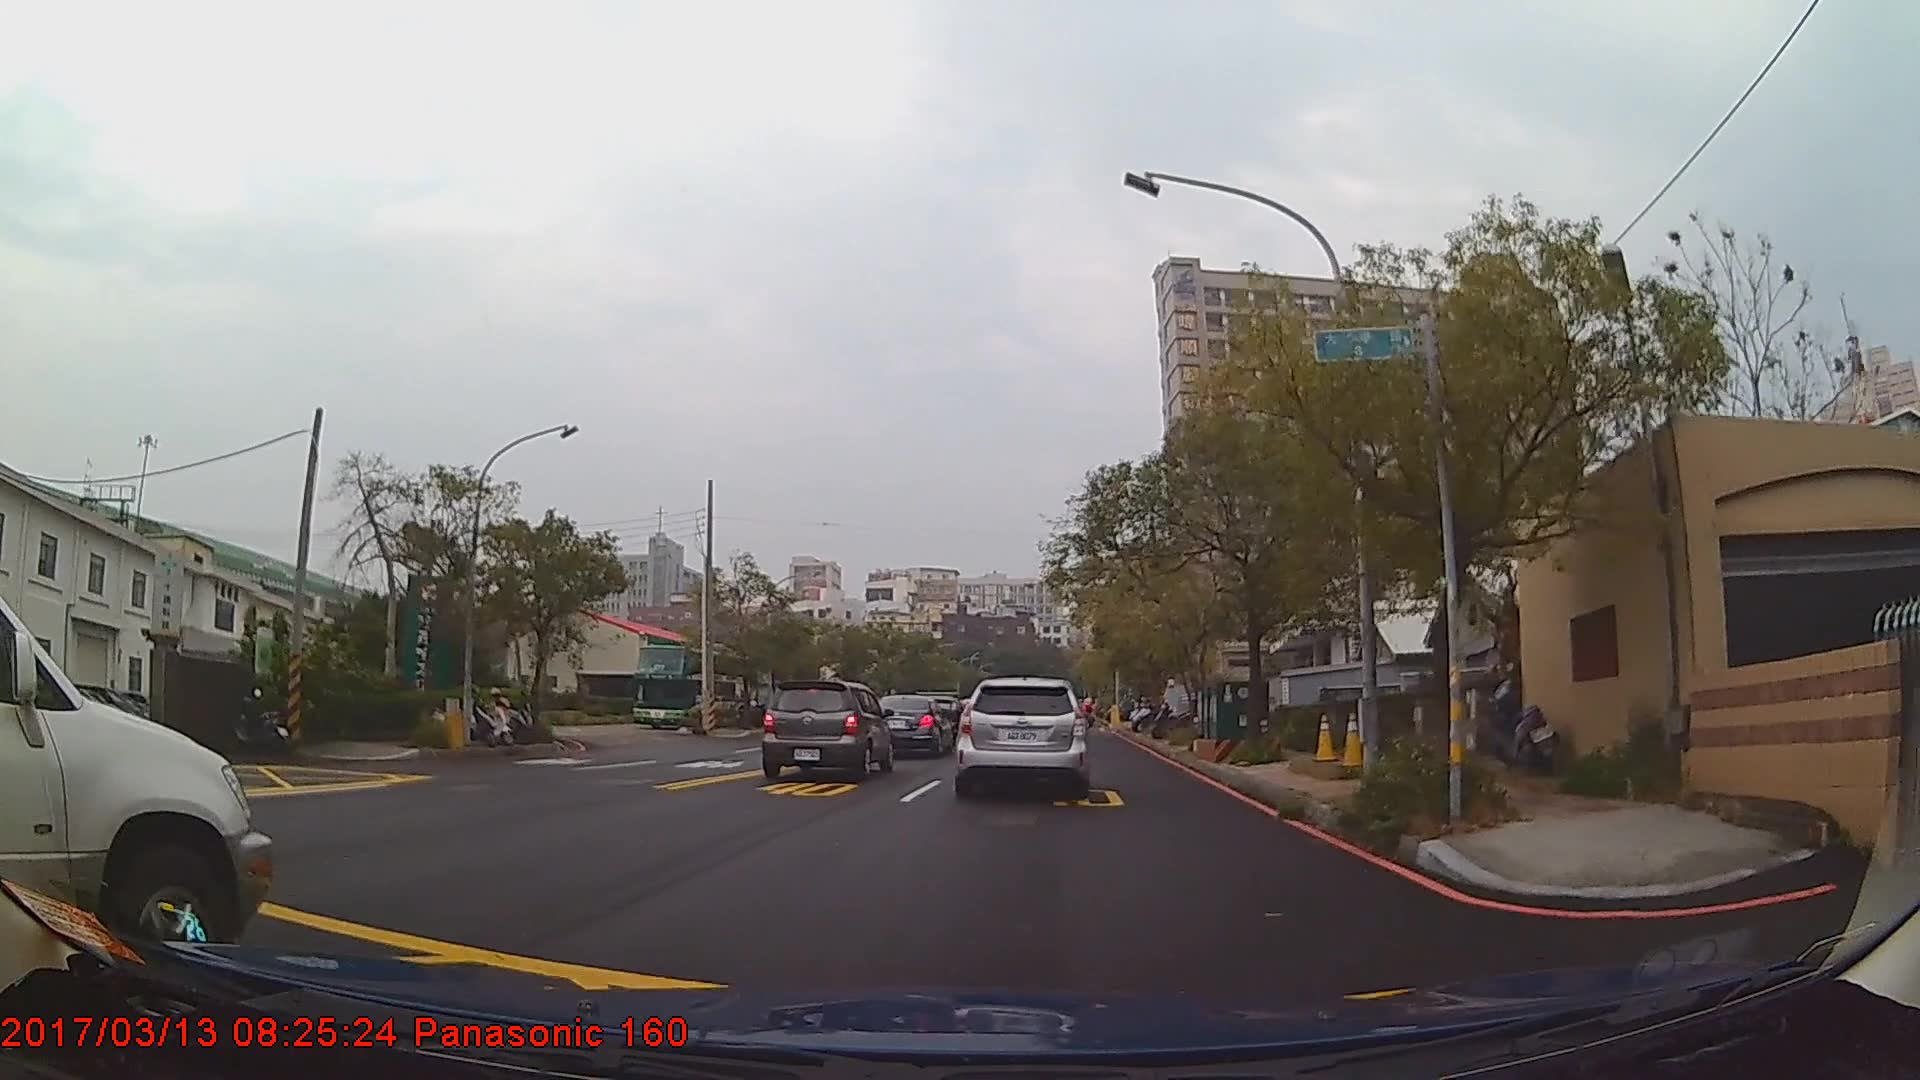vehicle: (0, 591, 272, 982), (953, 676, 1091, 800), (760, 678, 894, 775), (632, 640, 754, 728), (869, 690, 953, 758)
